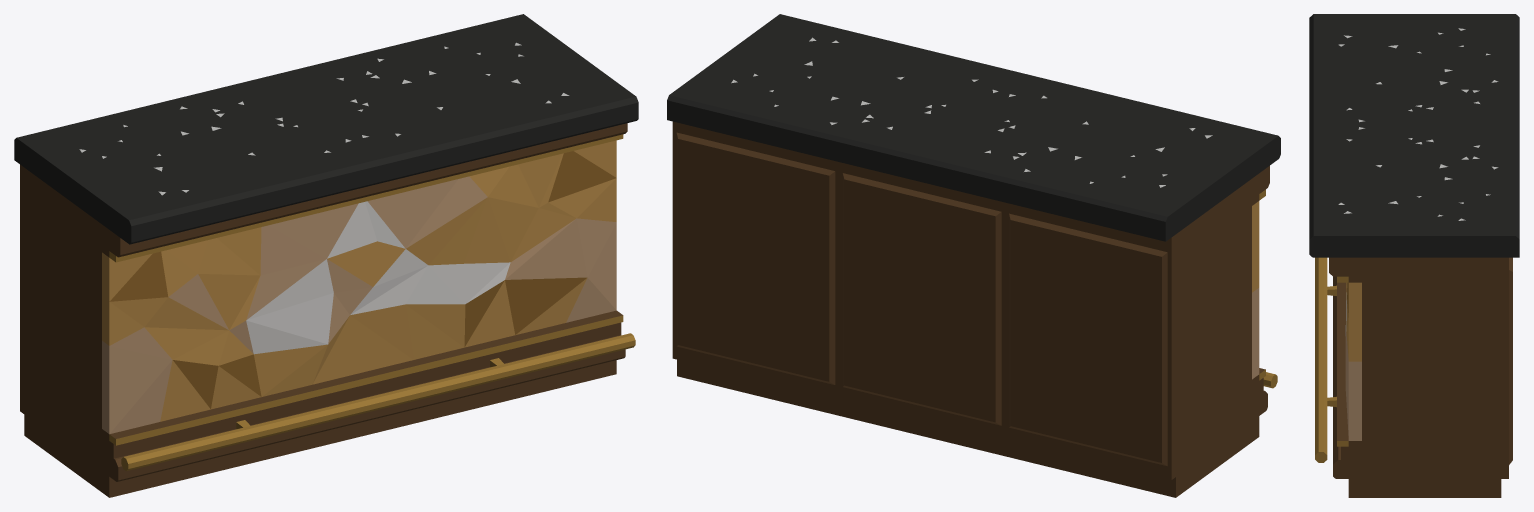
File: onyx-bar-counter-run-636495.glb
3 views of the same model, side by side, from view 1: azimuth 30°, elevation 25°; view 2: azimuth 150°, elevation 25°; view 3: azimuth 270°, elevation 25° (orthographic). The views are drawn at different scales.
Parts seen in each view (by area): view 1: counter, onyx; view 2: counter, onyx; view 3: counter, onyx.
Part boxes in pixels (bbox=[...]): counter: bbox=[14, 14, 638, 497]; onyx: bbox=[102, 140, 616, 434]; counter: bbox=[667, 14, 1280, 497]; onyx: bbox=[1252, 201, 1259, 379]; counter: bbox=[1309, 14, 1519, 497]; onyx: bbox=[1345, 282, 1361, 440].
Size of the model in its own units: 2 by 1.1 by 0.8.
